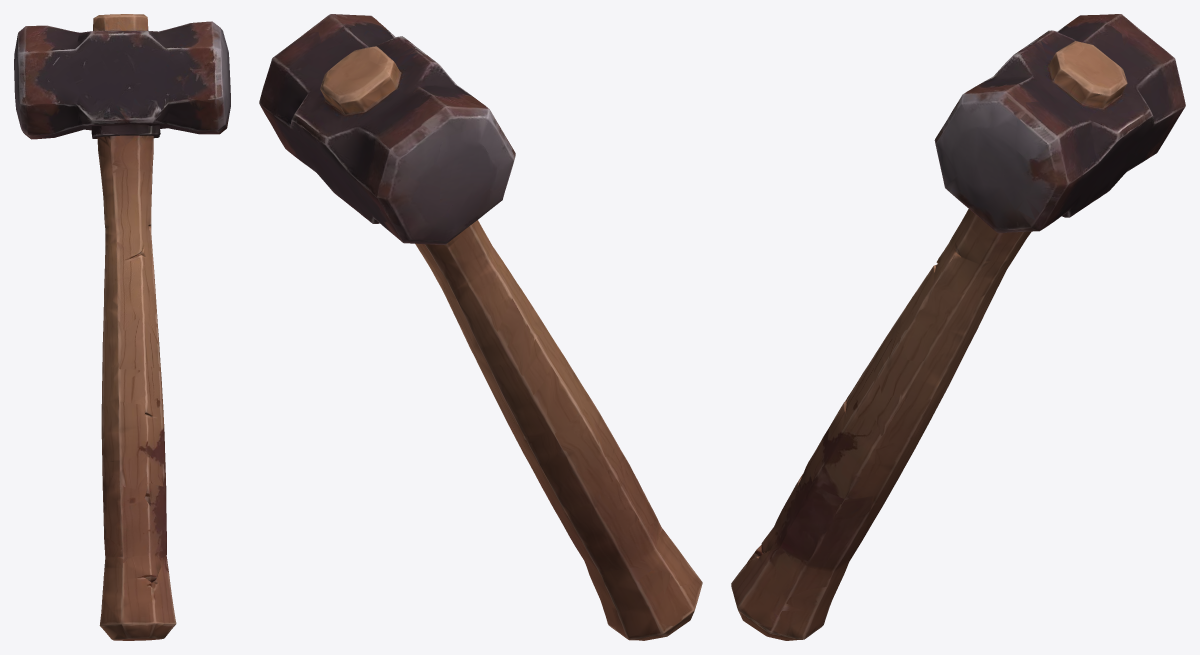
File: tool_sledge_malaya_idle.glb
3 renders of one model, left to right at view 1: azimuth 30°, elevation 25°; view 2: azimuth 150°, elevation 25°; view 3: azimuth 270°, elevation 25°, orthographic. The views are drawn at different scales.
Visible parts, largest first — view 1: tripo_node_1408436e-7c90-4cc4-89dc-fb1cf0660730; view 2: tripo_node_1408436e-7c90-4cc4-89dc-fb1cf0660730; view 3: tripo_node_1408436e-7c90-4cc4-89dc-fb1cf0660730.
Boxes of the visible parts, bbox=[...] form: tripo_node_1408436e-7c90-4cc4-89dc-fb1cf0660730: bbox=[14, 14, 230, 640]; tripo_node_1408436e-7c90-4cc4-89dc-fb1cf0660730: bbox=[259, 14, 702, 640]; tripo_node_1408436e-7c90-4cc4-89dc-fb1cf0660730: bbox=[731, 14, 1185, 640].
Size of the model in its own units: 0.4229 by 0.9 by 0.573.
Materials: 1 (1 with a texture image).
